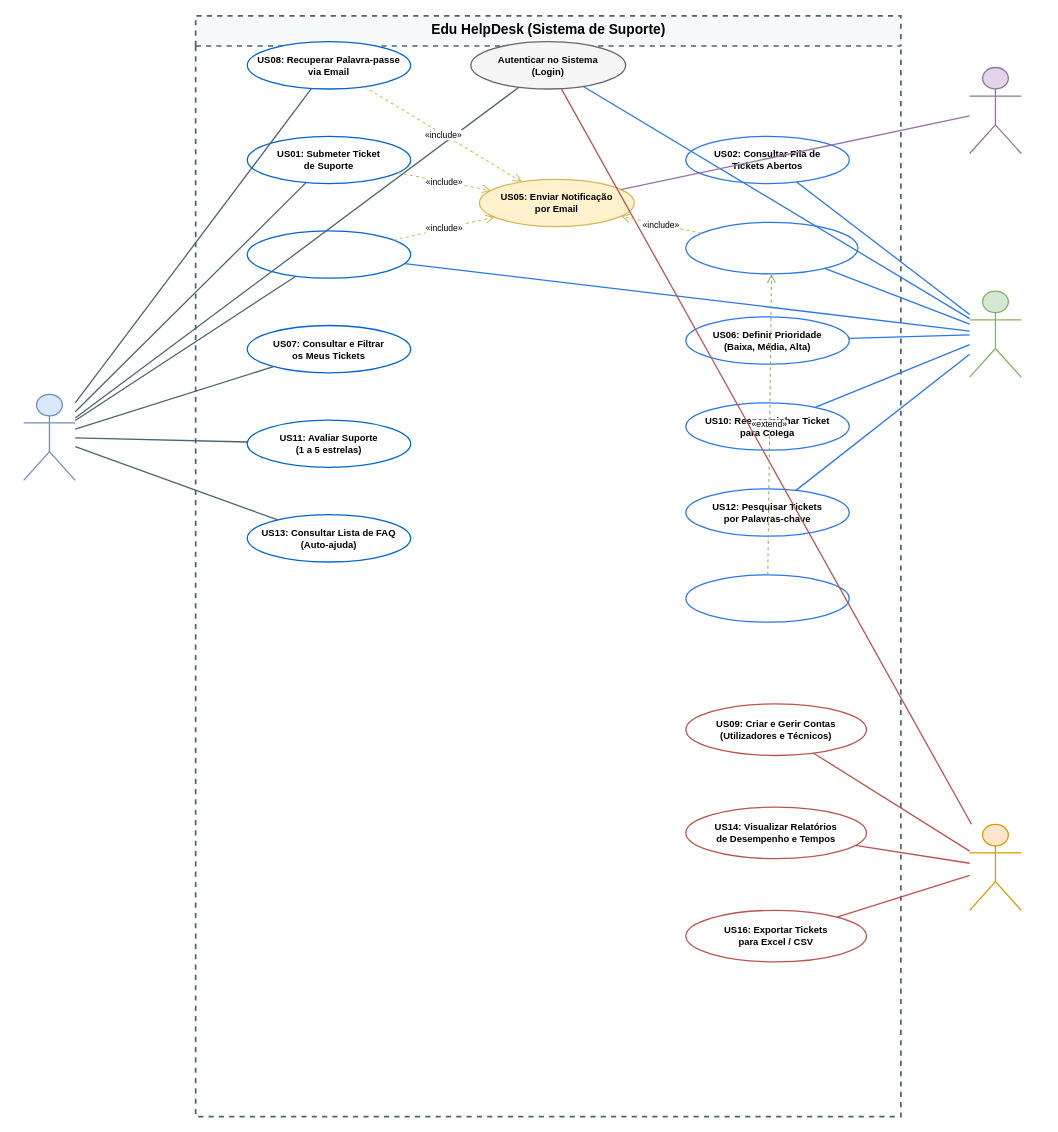
Image size: 1058x1132. Some labels were removed from this diagram. The shapes that lost their labels are listed below. From the top down, each one's centre as x and y in pixels, then its label:
the point at 995,110: «system» Servidor de Email
the point at 328,254: US04: Adicionar Comentários e Anexos
the point at 771,247: US03: Alterar Estado do Ticket (Em Resolução / Resolvido)
the point at 995,333: Técnico de Suporte
the point at 49,437: Utilizador (Requisitante)
the point at 767,598: US15: Utilizar Templates de Resposta
the point at 995,867: Administrador
